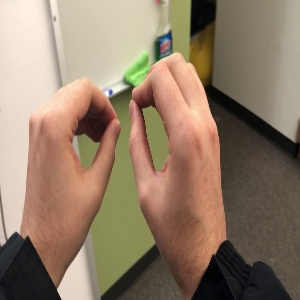hand: (129, 53, 226, 255), (25, 77, 121, 246)
